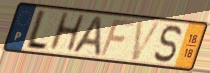A: (69, 14, 103, 58)
F: (98, 19, 136, 58)
H: (46, 11, 88, 53)
L: (22, 8, 50, 52)
S: (152, 24, 183, 65)
V: (129, 19, 164, 62)
